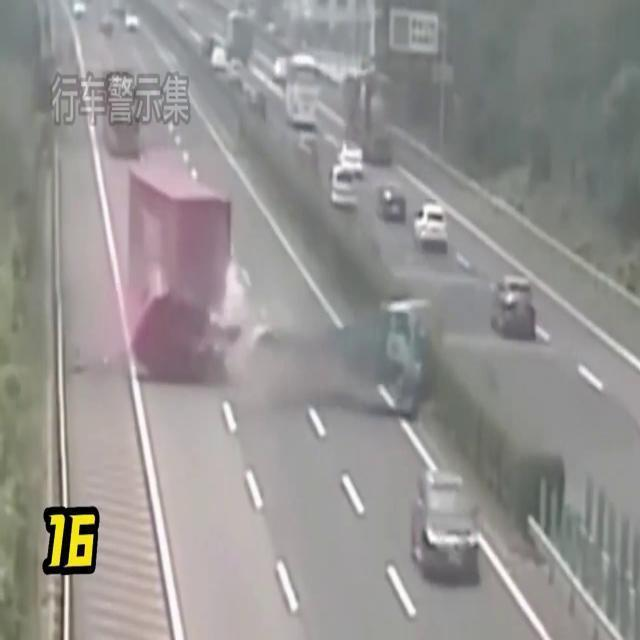accident: (120, 167, 436, 416), (122, 167, 230, 377), (330, 300, 436, 414)
